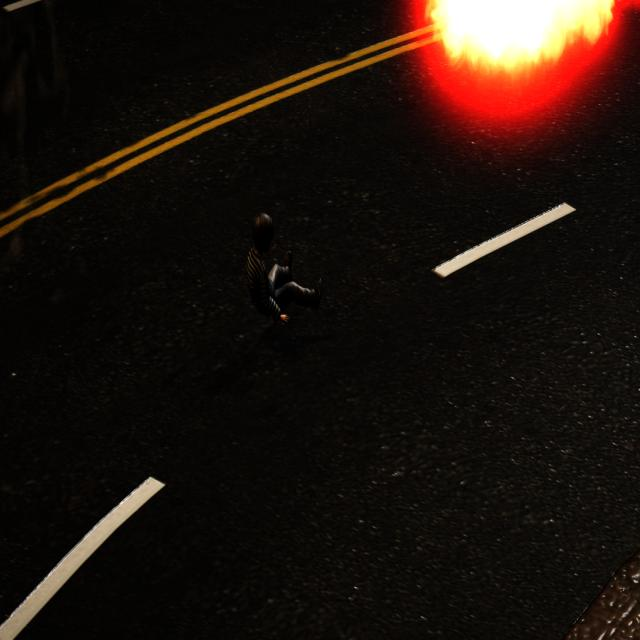Human: (241, 212, 326, 334)
